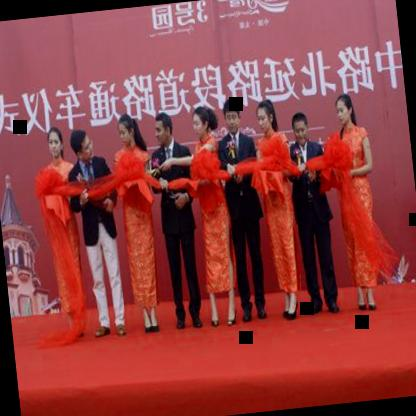head: (190, 101, 219, 145), (328, 89, 356, 130), (286, 108, 313, 150), (251, 97, 277, 138), (218, 96, 246, 134), (68, 126, 94, 164), (114, 114, 140, 151), (150, 108, 174, 148), (43, 125, 65, 161)
